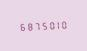eight: (24, 20, 30, 31)
five: (38, 20, 44, 30)
one: (52, 19, 58, 30)
seven: (31, 20, 37, 31)
six: (17, 21, 23, 32)
zero: (45, 19, 51, 30), (59, 19, 65, 29)
